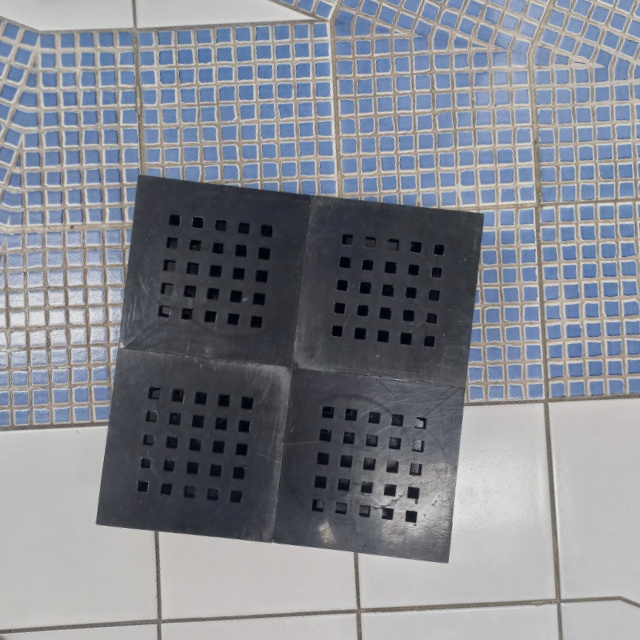pallet: (64, 163, 505, 572)
